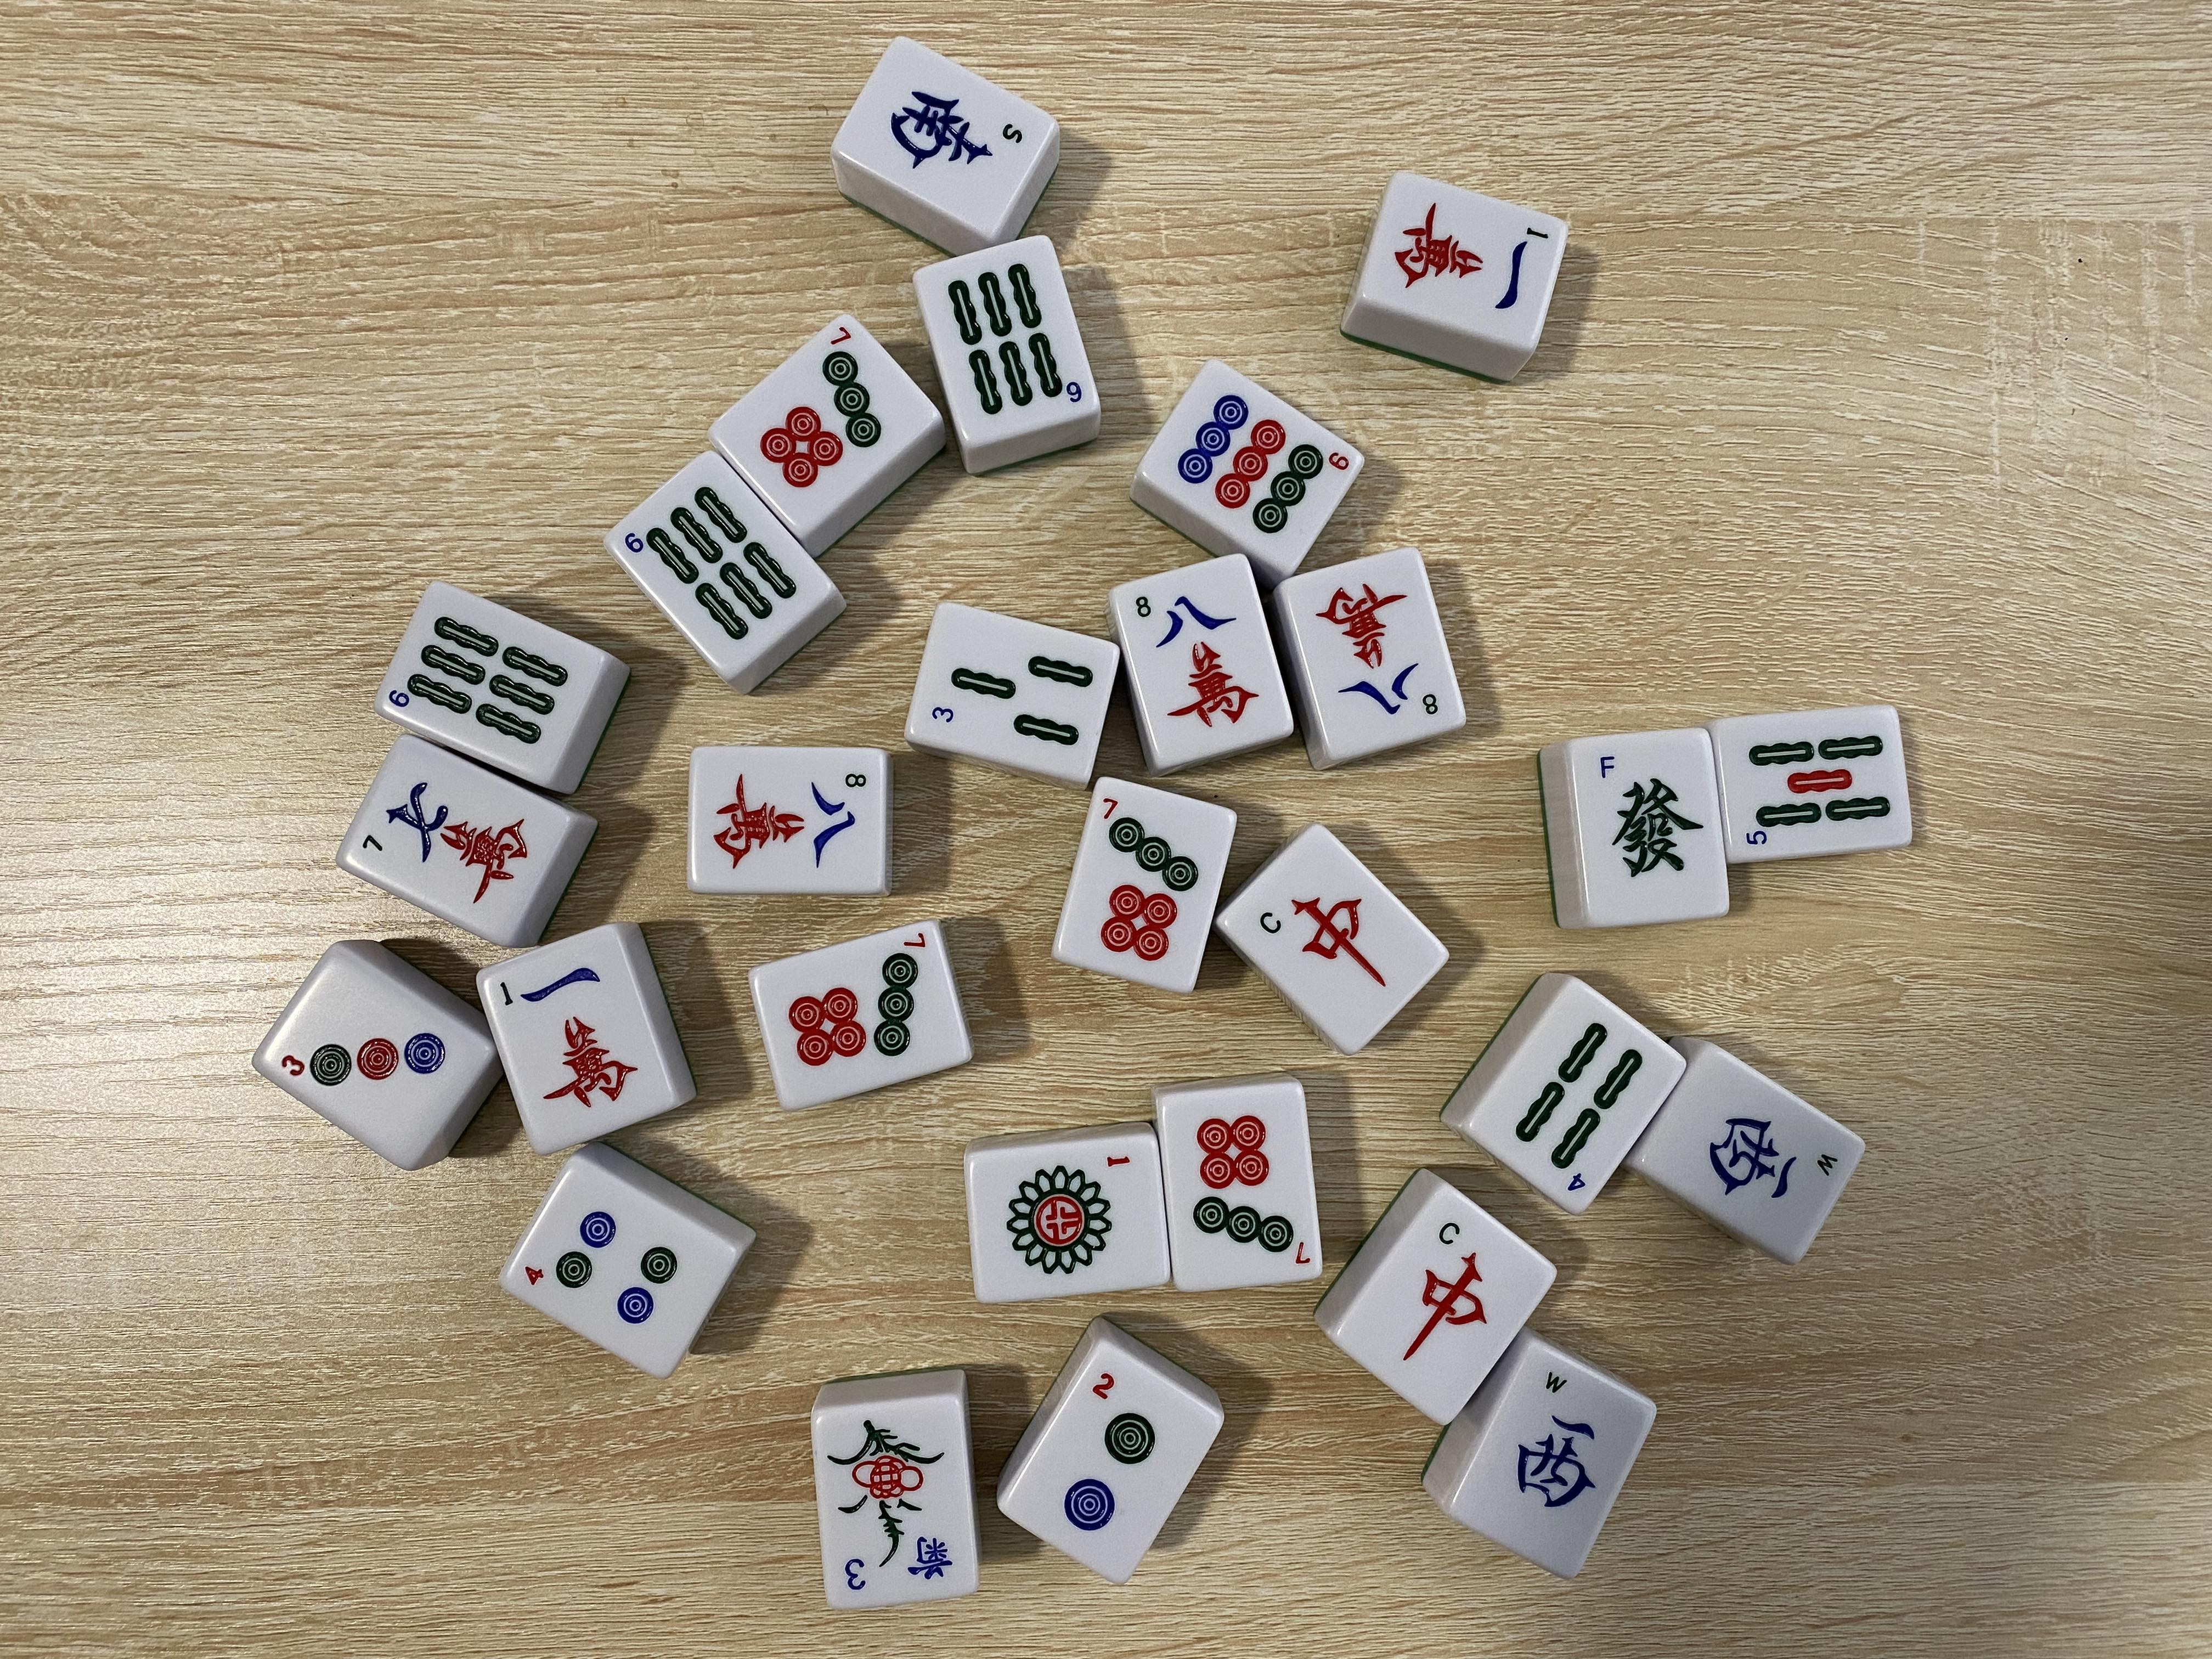bamboo-five: (1719, 708, 1916, 863)
bamboo-four: (1468, 979, 1684, 1216)
bamboo-six: (604, 451, 834, 680), (374, 577, 611, 791), (913, 232, 1103, 451)
bamboo-three: (902, 603, 1118, 782)
character-eight: (1111, 554, 1299, 775), (1278, 547, 1472, 762), (690, 748, 885, 894)
character-one: (475, 925, 676, 1155), (1357, 169, 1571, 347)
character-seven: (334, 735, 573, 953)
circle-four: (500, 1155, 737, 1382)
circle-nine: (1143, 361, 1366, 573)
circle-one: (967, 1134, 1170, 1302)
circle-seven: (705, 308, 942, 535), (749, 918, 970, 1110), (1049, 779, 1238, 995), (1158, 1080, 1324, 1291)
circle-three: (251, 945, 495, 1175)
circle-two: (1000, 1340, 1223, 1588)
flower-blue_three: (813, 1396, 979, 1607)
honor-green_dragon: (1569, 730, 1730, 929)
honor-red_dragon: (1331, 1183, 1557, 1429), (1217, 823, 1453, 1053)
honor-south_wind: (831, 31, 1057, 239)
honor-west_wind: (1447, 1340, 1662, 1579), (1637, 1044, 1864, 1269)
